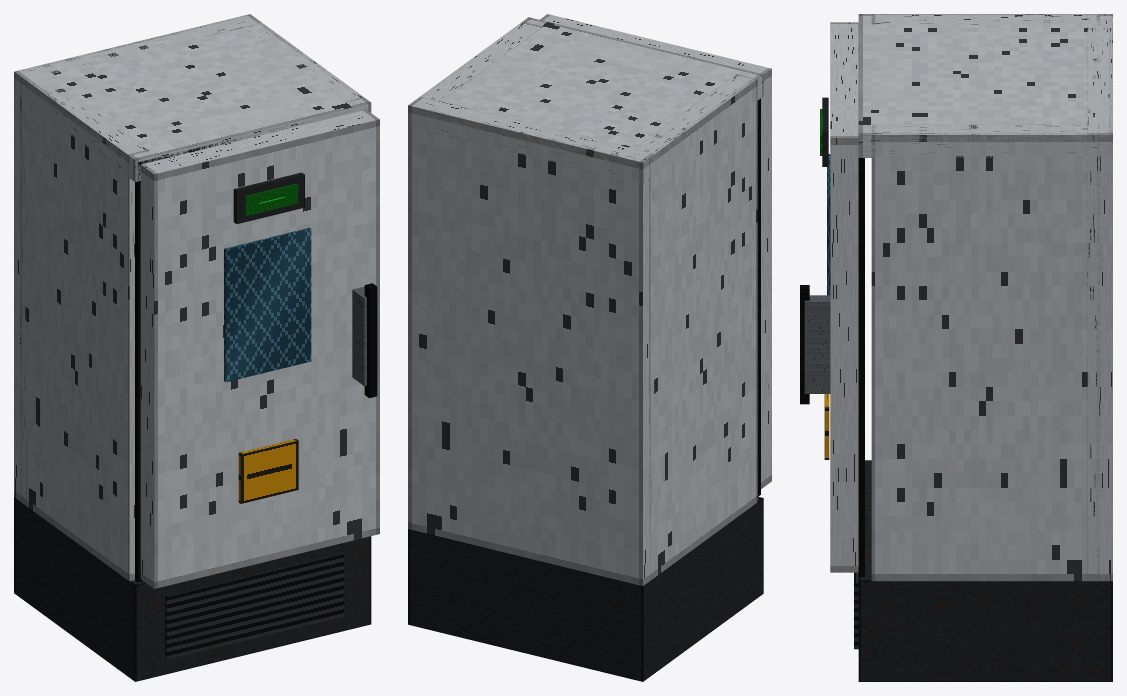
Rendered from specimen_freezer.glb.
3 views of the same model, side by side, from view 1: azimuth 30°, elevation 25°; view 2: azimuth 150°, elevation 25°; view 3: azimuth 270°, elevation 25° (orthographic). The views are drawn at different scales.
Visible parts, largest first — view 1: specimen_freezer; view 2: specimen_freezer; view 3: specimen_freezer.
Part boxes in pixels (x1,y1,x2,y2): specimen_freezer: (14, 14, 379, 681); specimen_freezer: (408, 14, 771, 681); specimen_freezer: (800, 14, 1112, 681).
Size of the model in its own units: 0.9 by 1.9 by 0.985.
Materials: 1 (1 with a texture image).
